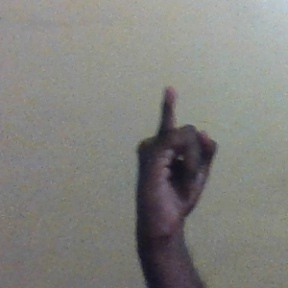I: (135, 87, 218, 225)
